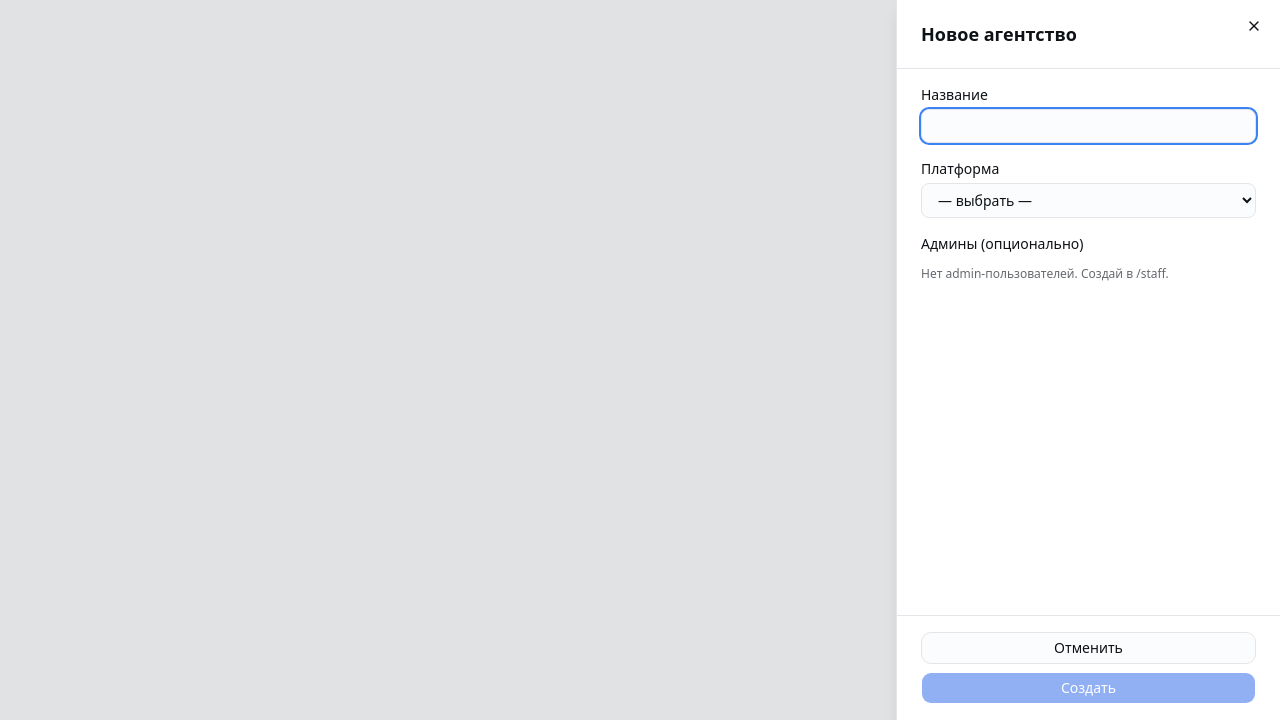
Test: CreateAgencySlideOut › shows error inline on RPC failure
Type "Duplicate" into the field labelled "Название" at (1088, 126), box left=921, top=109, right=1256, bottom=143
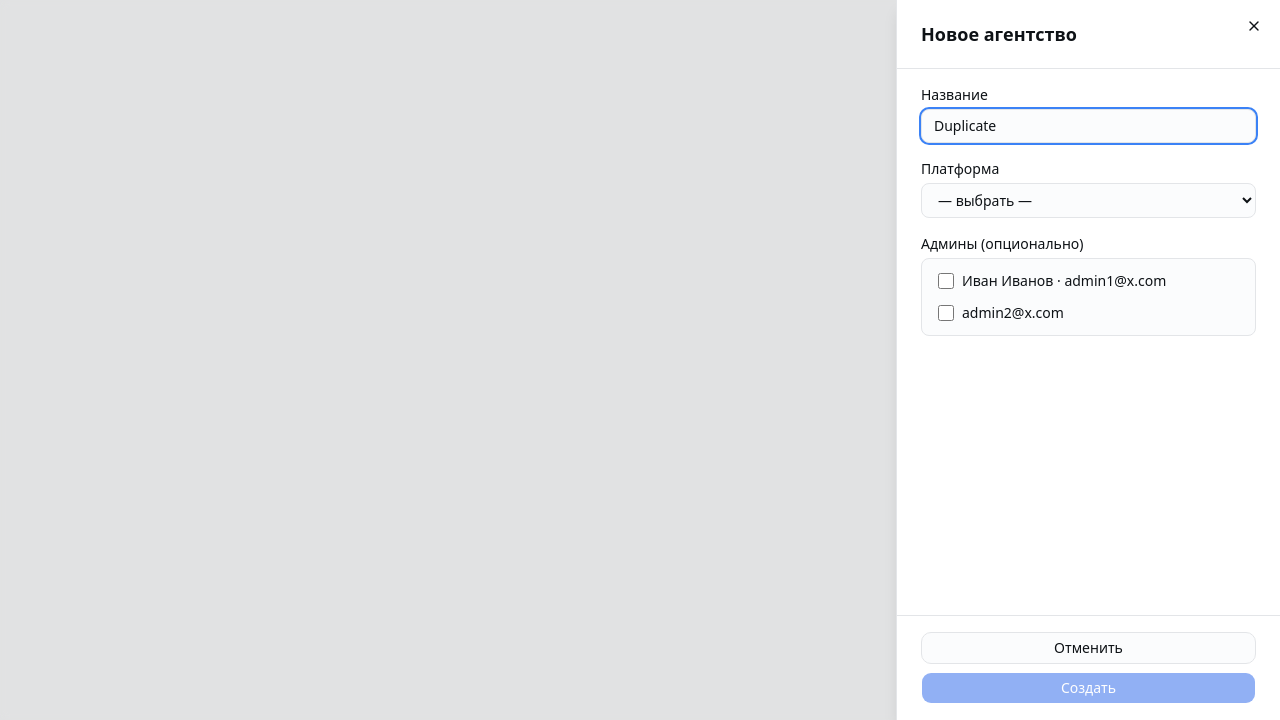
Select "PRIME" in the dropdown labelled "Платформа" at (1088, 200), box left=921, top=183, right=1256, bottom=218
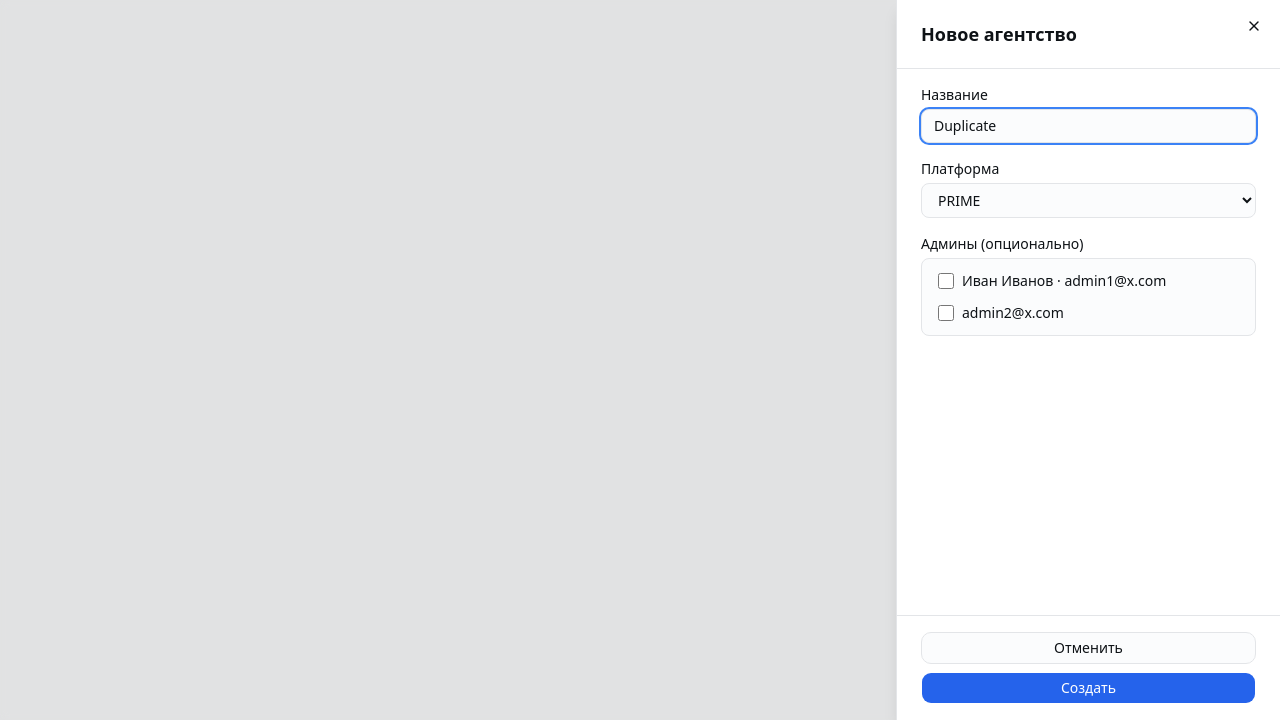
Click the button "Создать" at (1088, 688), box left=921, top=672, right=1256, bottom=704
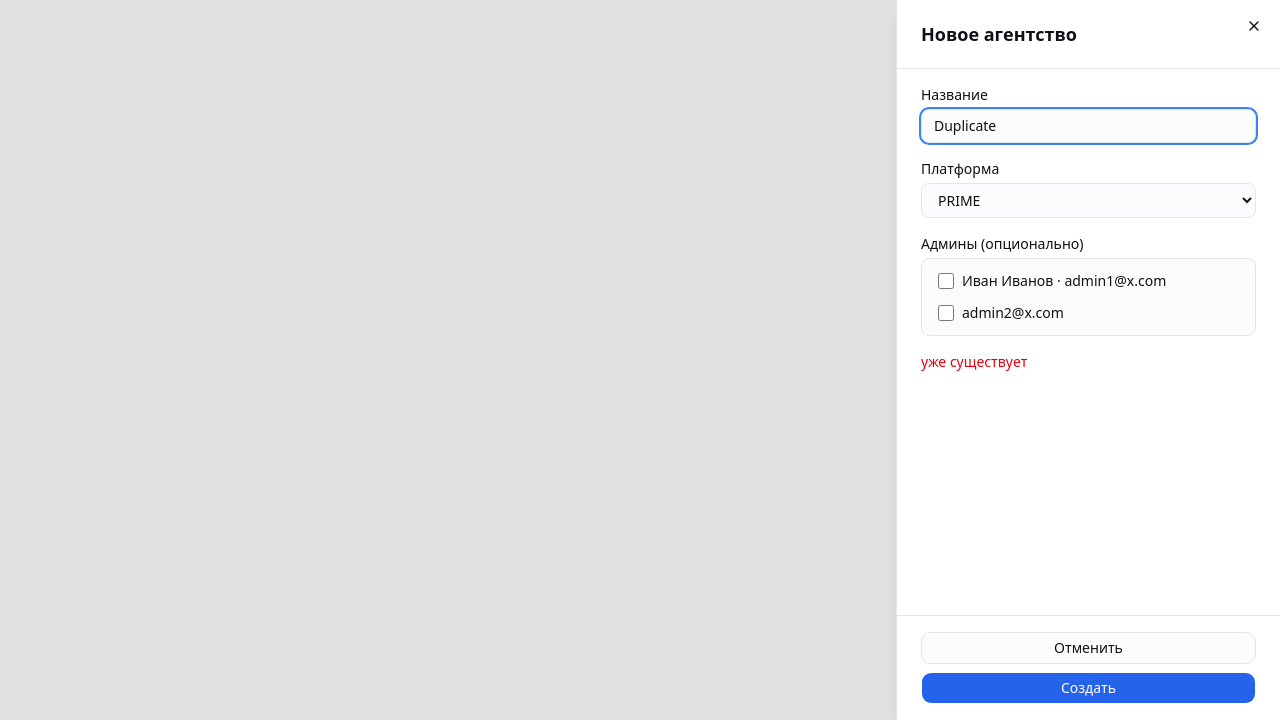
Now the text "уже существует" is shown, box left=921, top=352, right=1028, bottom=371
